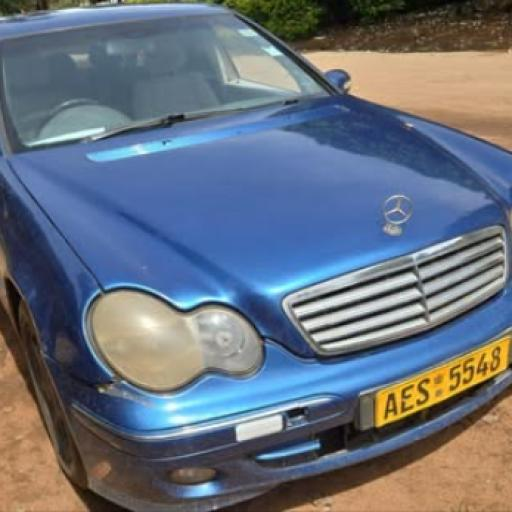number-plates: (384, 344, 512, 420)
